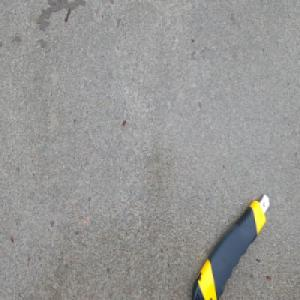Cutter: (189, 190, 270, 300)
